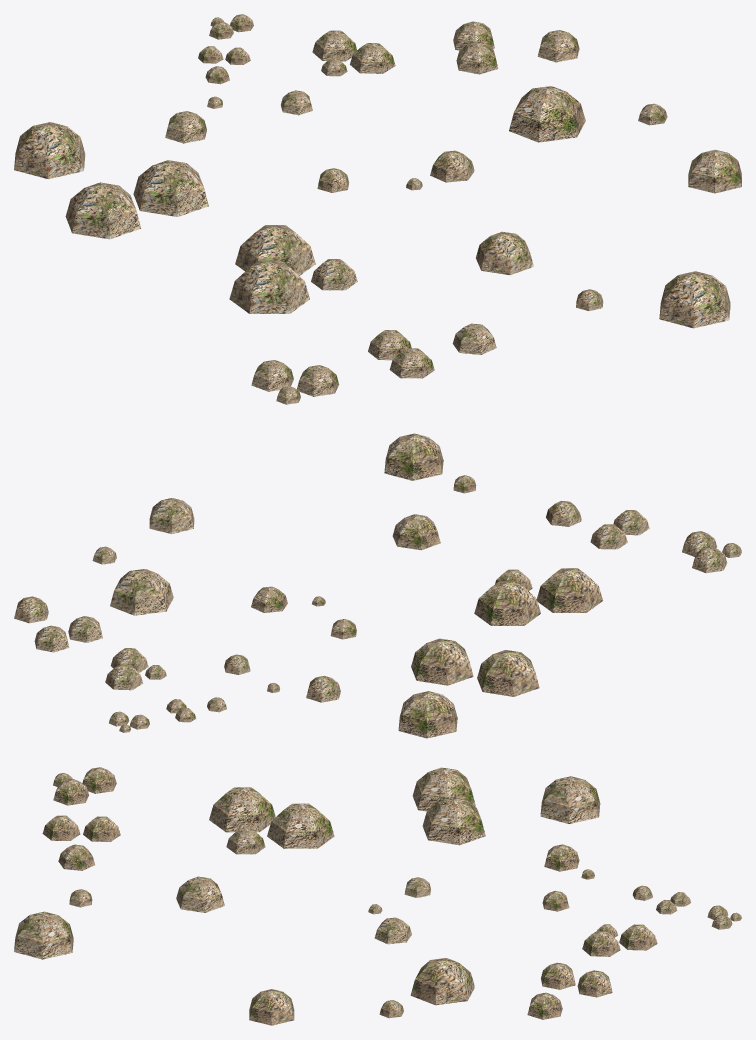
Rendered from ground-clutter3.fbx.
3 renders of one model, top to bottom at view 1: azimuth 30°, elevation 25°; view 2: azimuth 150°, elevation 25°; view 3: azimuth 270°, elevation 25°, orthographic. The views are drawn at different scales.
Parts seen in each view (by area): view 1: Sphere; view 2: Sphere; view 3: Sphere.
Part boxes in pixels (left/top/right/bottom): Sphere: left=14, top=14, right=741, bottom=404; Sphere: left=14, top=433, right=741, bottom=738; Sphere: left=14, top=767, right=741, bottom=1025.
Bounding box in the file's own units: 86.73 × 6.66 × 110.
